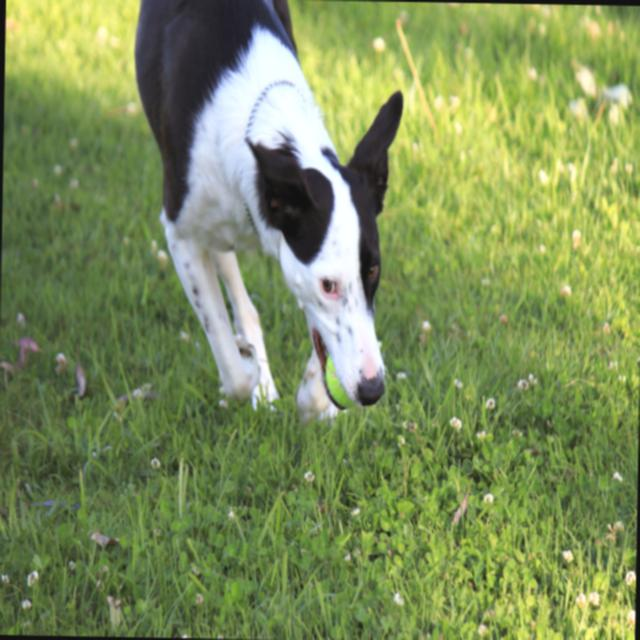Tennis Ball: (325, 354, 355, 408)
